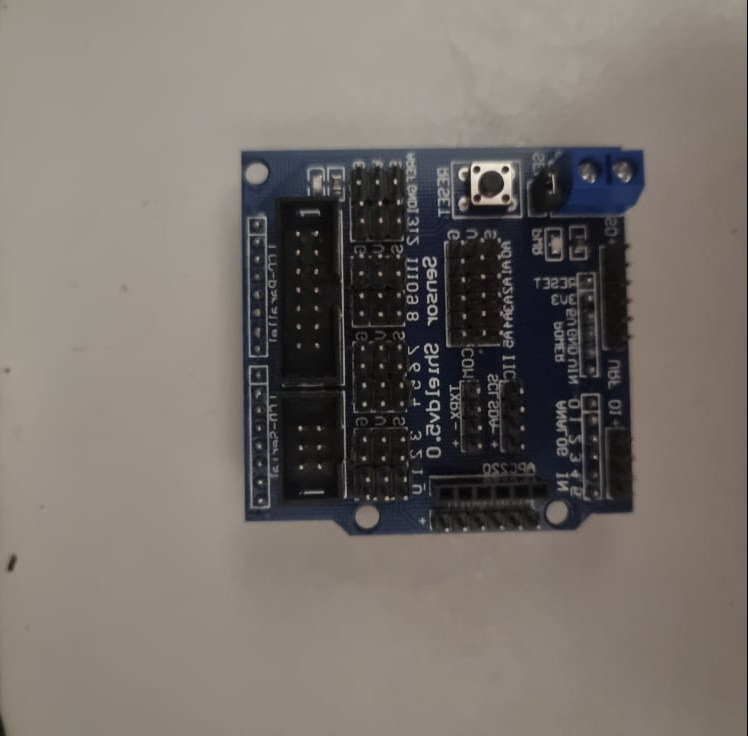5V EXPANSION: (240, 144, 646, 530)
